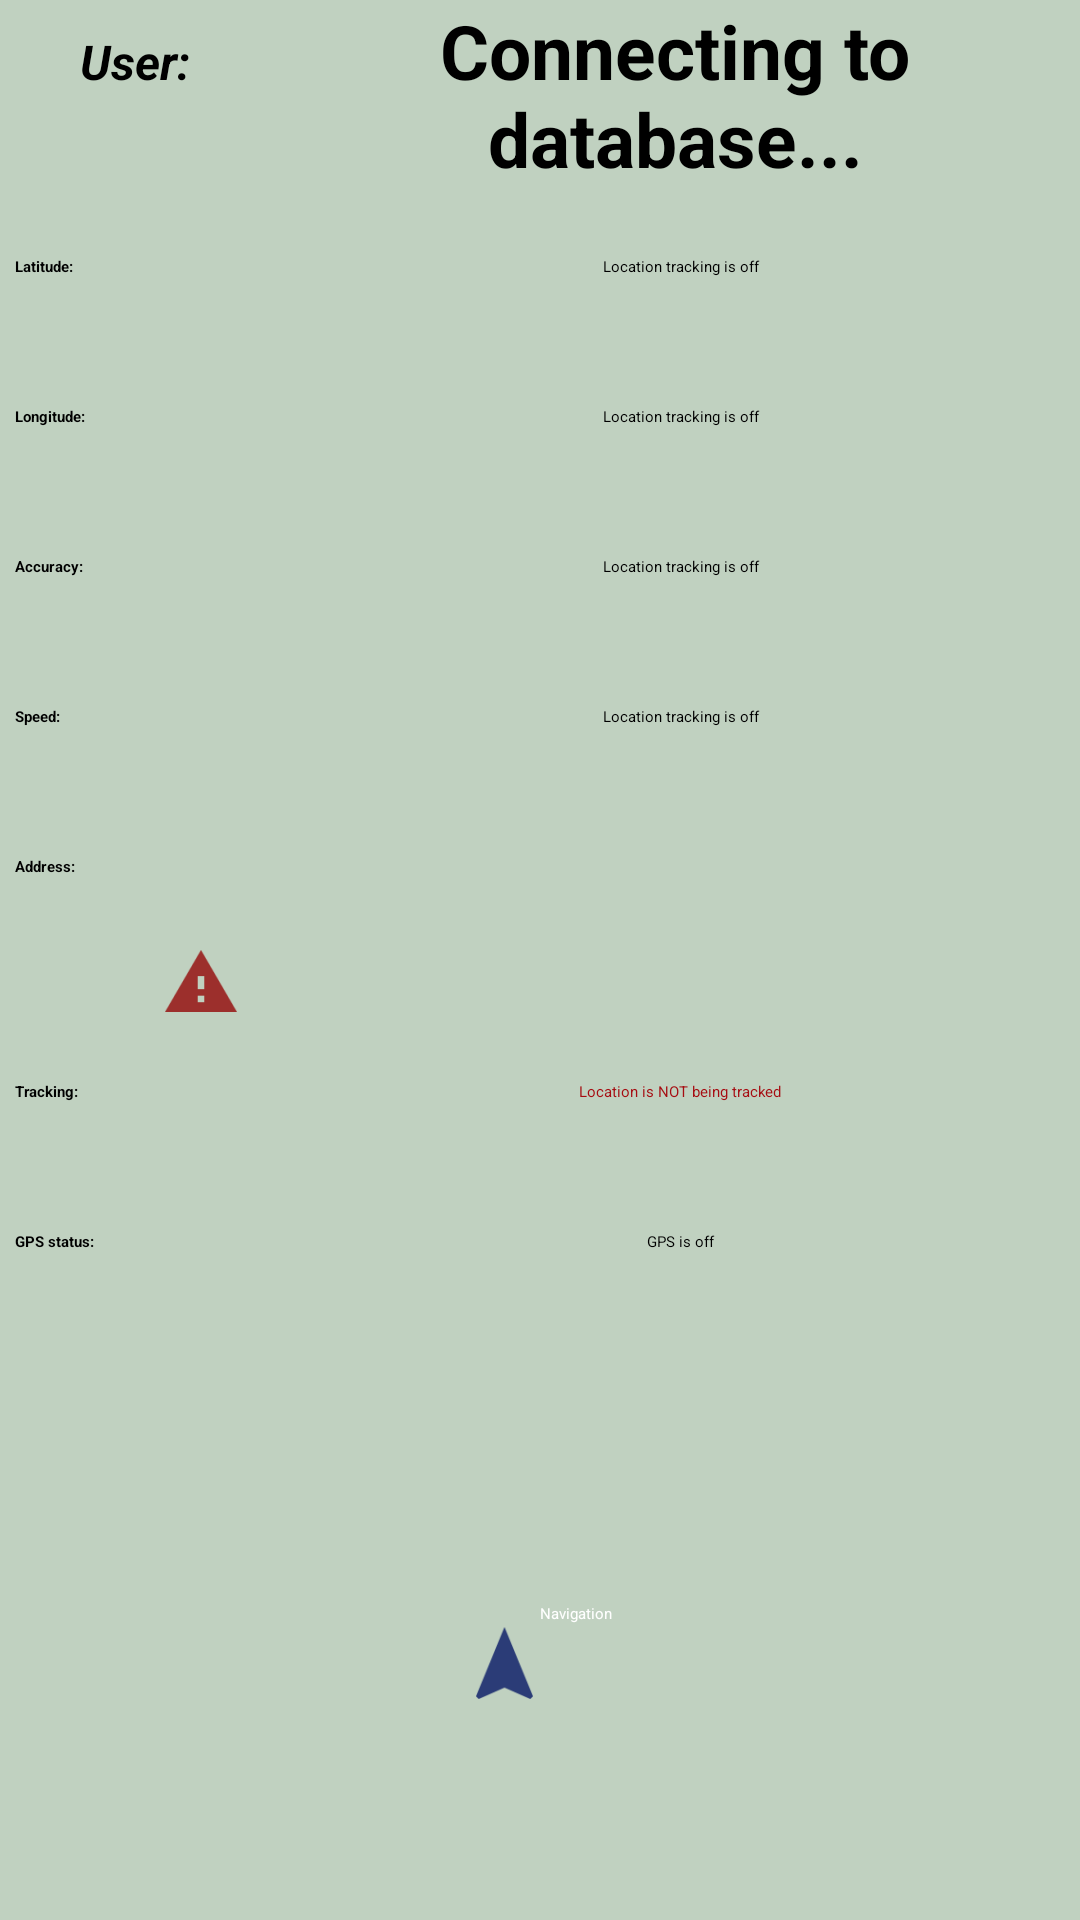

Icon click points for this 1080w x 1920h phone screenshot, format point (x, y):
warning: point (201, 981)
